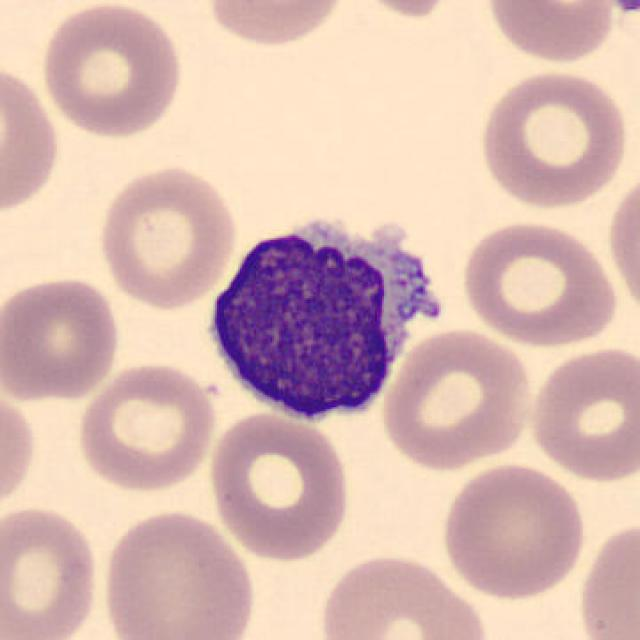Lymphocyte: (195, 201, 457, 432)
Platelets: (610, 0, 640, 16)
RBC: (473, 65, 633, 212), (379, 324, 537, 472), (204, 408, 354, 562), (455, 215, 621, 351), (94, 160, 242, 310), (98, 506, 260, 640), (438, 460, 590, 601), (37, 0, 187, 141), (73, 358, 219, 494), (313, 548, 492, 640), (0, 271, 124, 403), (524, 342, 638, 485), (0, 500, 103, 640), (0, 58, 64, 220), (482, 0, 618, 65), (574, 515, 638, 640), (201, 0, 352, 49), (604, 165, 640, 322), (0, 379, 39, 518), (344, 0, 469, 19)
